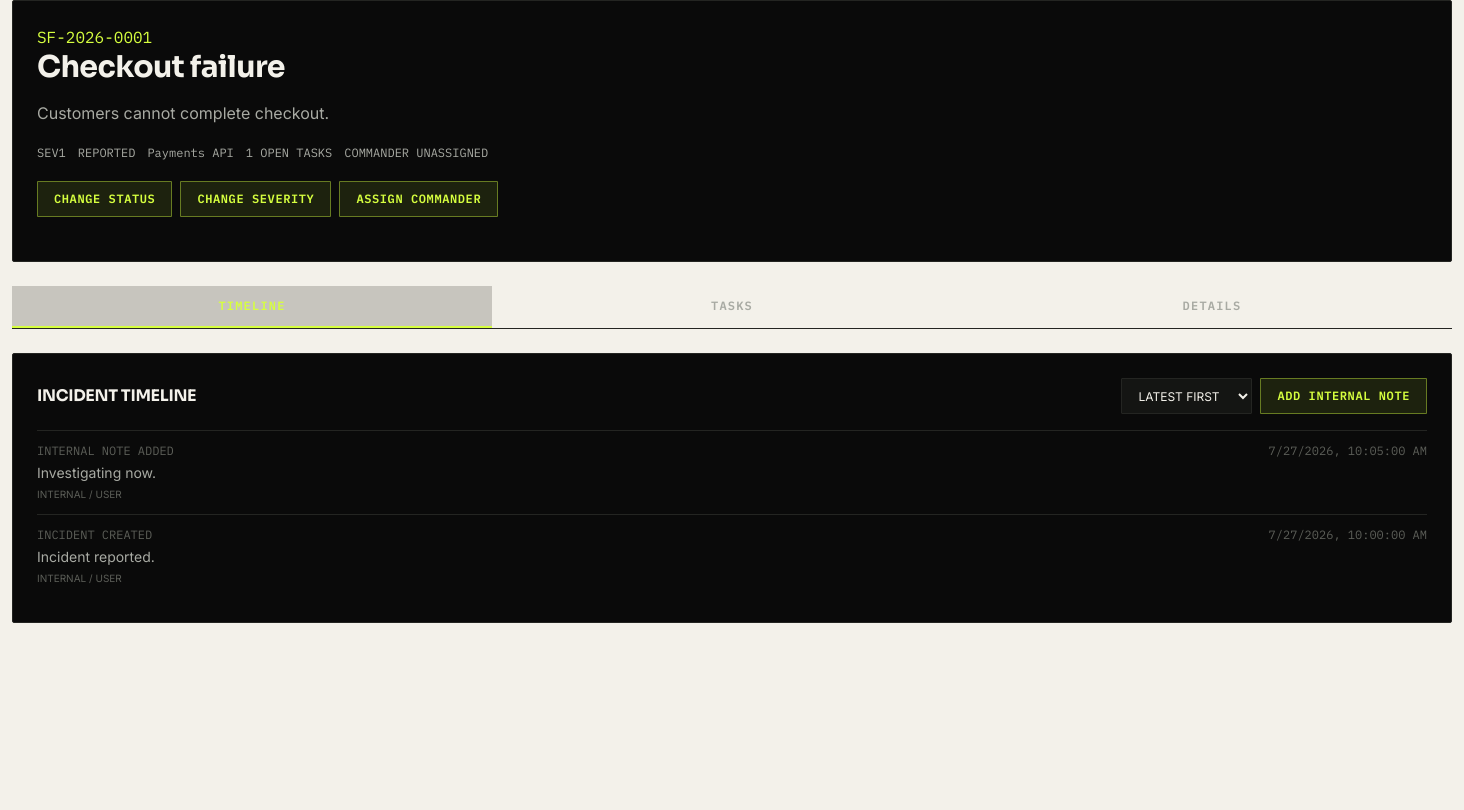
Phase 05 live coordination surfaces › renders unclaim as an approved outlined button and disables pending duplicate interaction
Click the tab "TASKS": click(732, 307) [492,286,972,328]
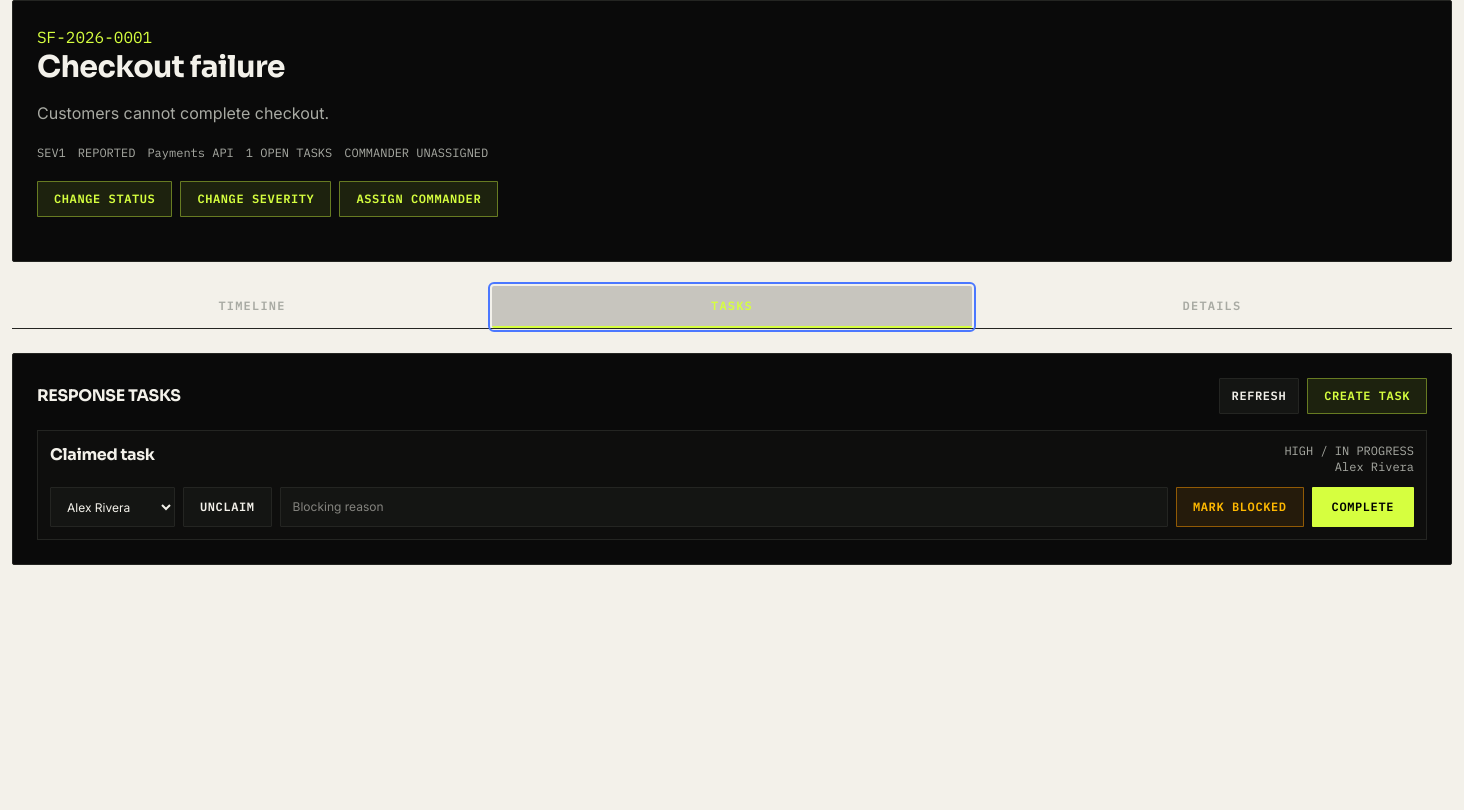
Click the button "UNCLAIM": click(227, 507) [183,487,272,527]
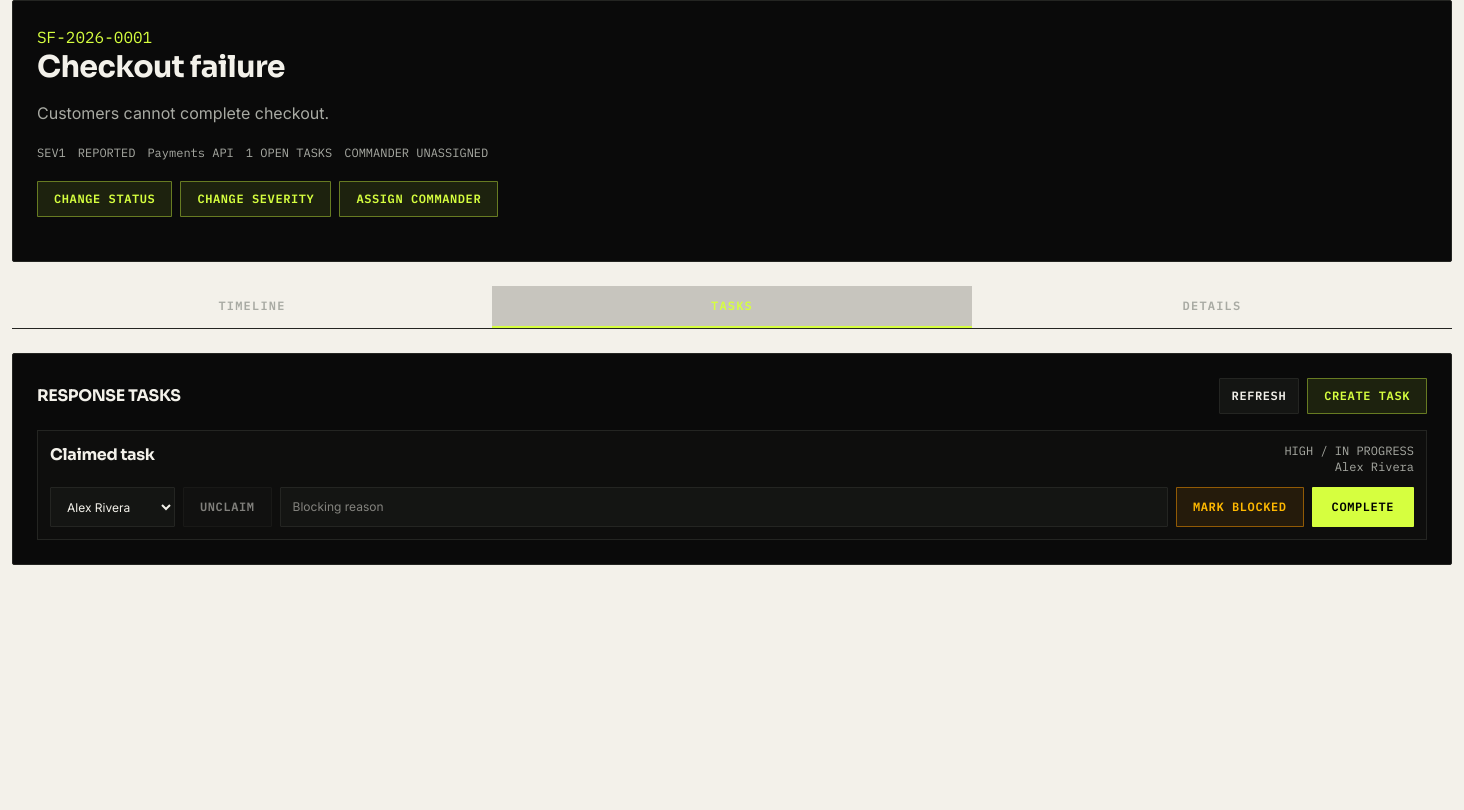
Check: the button "UNCLAIM" is disabled, box [183,487,272,527]
